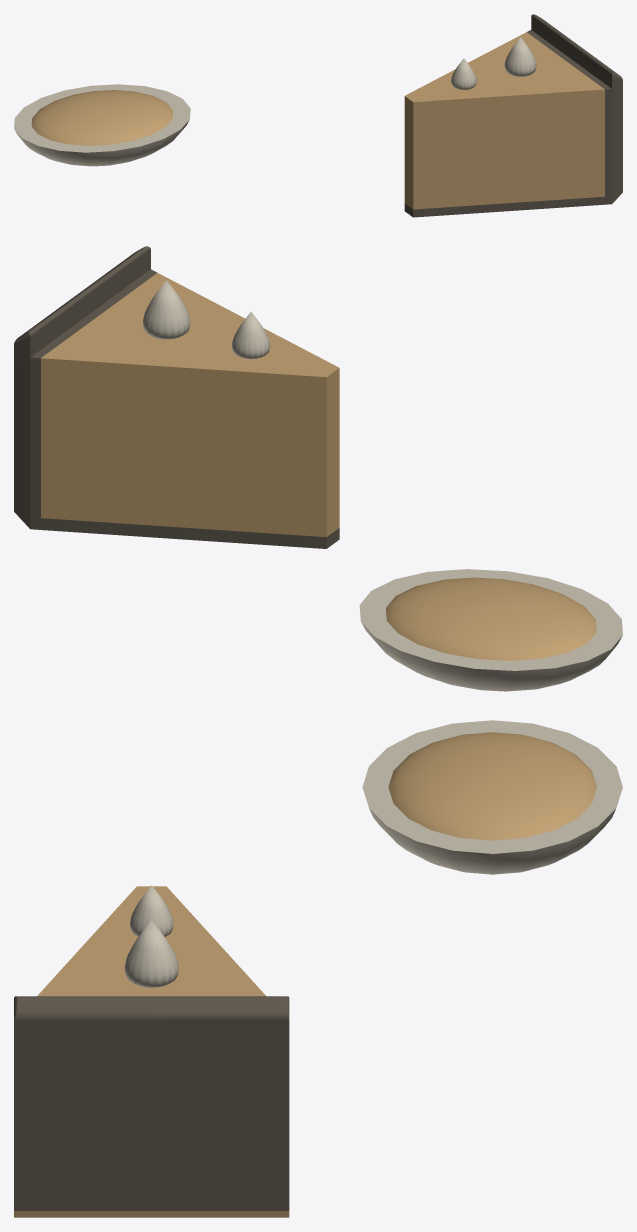
The model's file is pastel y huevo.fbx.
The picture shows the model from 3 angles, top to bottom: view 1: azimuth 30°, elevation 25°; view 2: azimuth 150°, elevation 25°; view 3: azimuth 270°, elevation 25°; orthographic projection. The views are drawn at different scales.
Parts seen in each view (by area): view 1: pastel, huevo; view 2: pastel, huevo; view 3: pastel, huevo.
Boxes of the visible parts, <box> form: pastel: <box>404,14,622,217</box>; huevo: <box>14,84,190,166</box>; pastel: <box>14,246,339,548</box>; huevo: <box>359,569,622,691</box>; pastel: <box>14,885,289,1217</box>; huevo: <box>362,720,622,874</box>.
Size of the model in its own units: 11.38 by 3.55 by 7.66.
